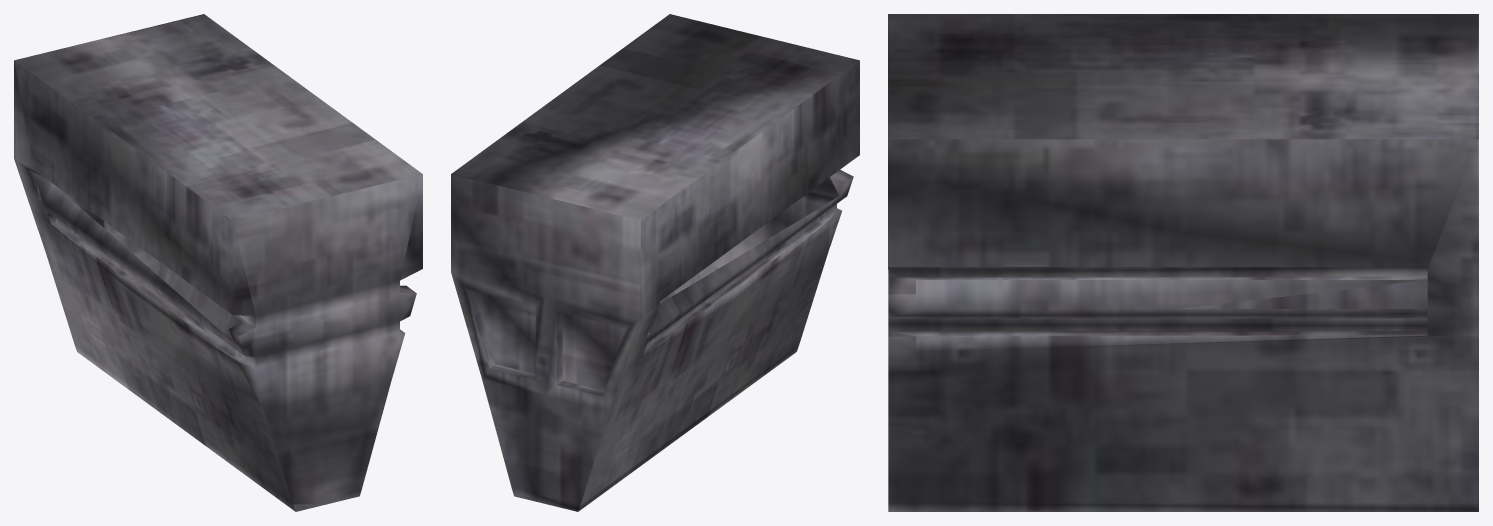
Rendered from skatecargo.obj.
The picture shows the model from 3 angles, left to right: view 1: azimuth 30°, elevation 25°; view 2: azimuth 150°, elevation 25°; view 3: azimuth 270°, elevation 25°; orthographic projection. The views are drawn at different scales.
Bounding box in the file's own units: 49.32 × 76.09 × 98.32.
